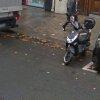Motorcycle: (56, 9, 94, 73)
